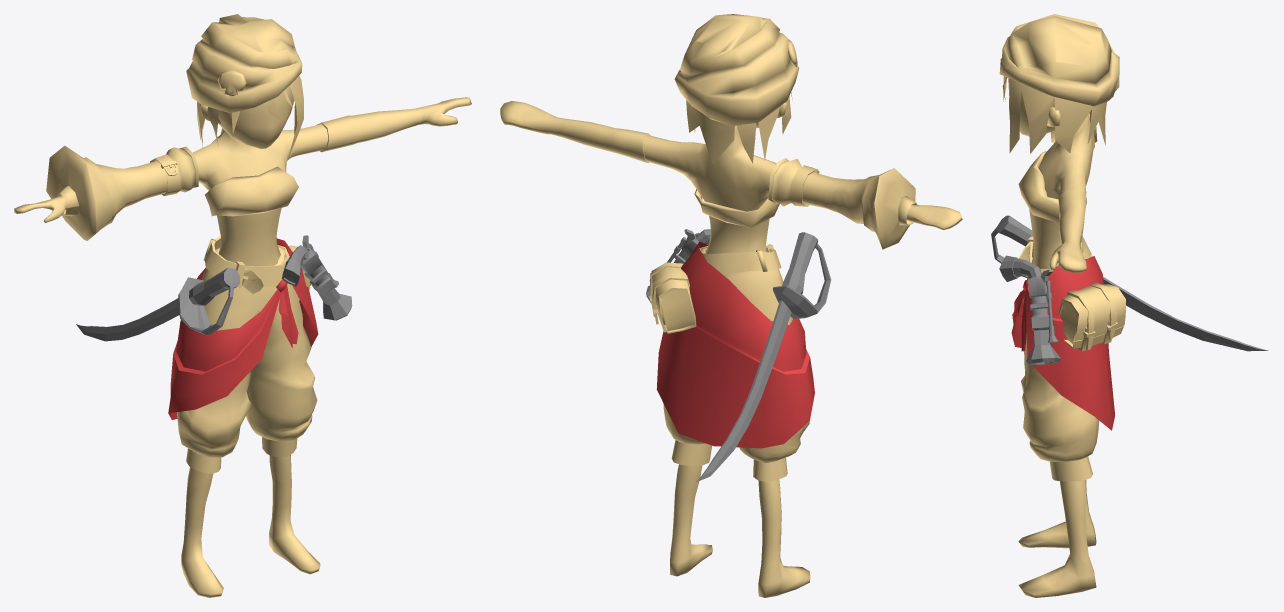
File: main_character.fbx
3 views of the same model, side by side, from view 1: azimuth 30°, elevation 25°; view 2: azimuth 150°, elevation 25°; view 3: azimuth 270°, elevation 25° (orthographic).
Parts seen in each view (by area): view 1: Character.004, Skirt, Weapon; view 2: Character.004, Skirt, Weapon; view 3: Character.004, Skirt, Weapon.
Part boxes in pixels (left/top/right/bottom): Character.004: left=14, top=14, right=471, bottom=597; Skirt: left=168, top=238, right=318, bottom=419; Weapon: left=76, top=235, right=352, bottom=341; Character.004: left=500, top=14, right=962, bottom=597; Skirt: left=656, top=241, right=814, bottom=448; Weapon: left=646, top=229, right=831, bottom=482; Character.004: left=999, top=14, right=1125, bottom=597; Skirt: left=1011, top=256, right=1114, bottom=430; Weapon: left=991, top=215, right=1268, bottom=364.
Size of the model in its own units: 141 by 164 by 75.54.
